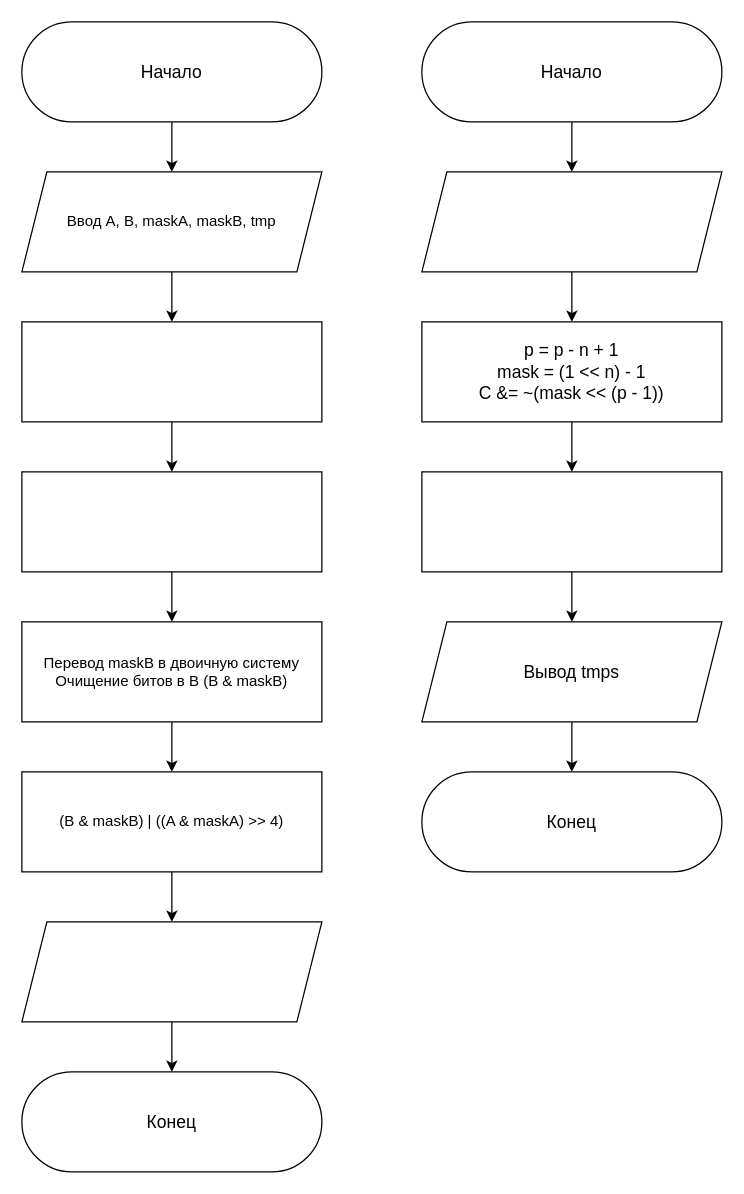
Some shapes in this 744 by 1194 pixel diagram are drawn without their labels. Each missing label, with the centre of its shape:
"maskA = 2016 maskB = ~maskA >> 5 Перевод A и B в двоичную систему" goes at point 171,371.
"Ввод tmps, C, n, p, mask" goes at point 571,221.
"Вывод tmp" goes at point 171,971.
"Перевод maskA в двоичную систему Выделение битов в A ((A & maskA) >> 5)" goes at point 171,521.
"Перевод результата в двоичный код" goes at point 571,521.
